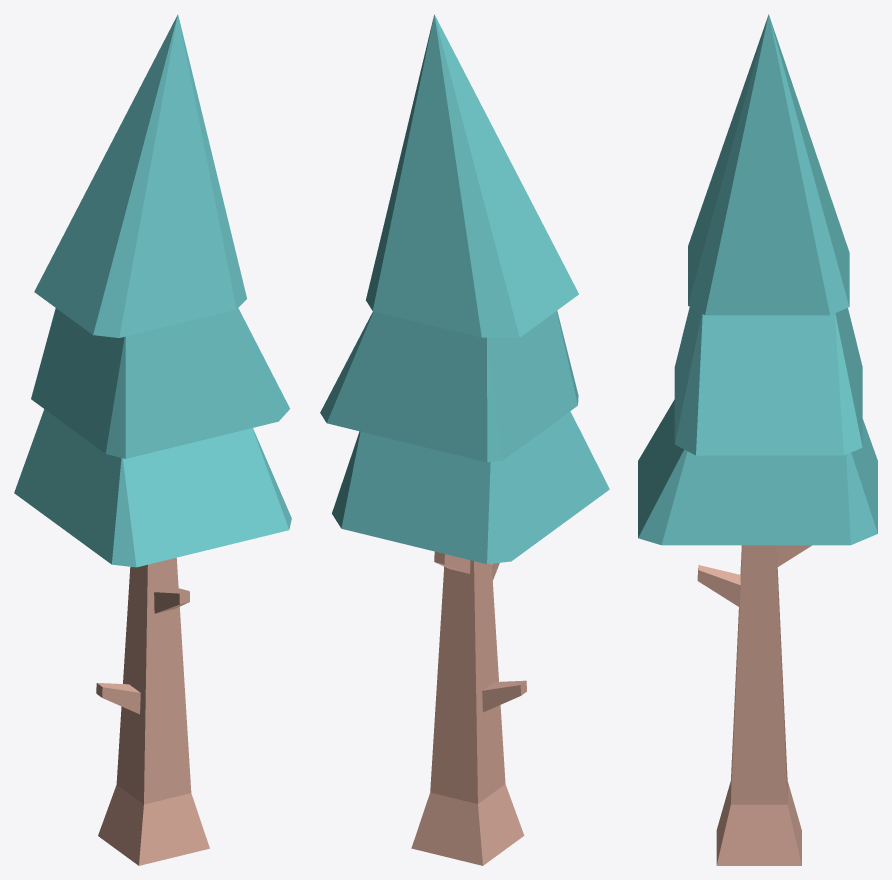
File: tree_pineTallA_detailed.glb
3 renders of one model, left to right at view 1: azimuth 30°, elevation 25°; view 2: azimuth 150°, elevation 25°; view 3: azimuth 270°, elevation 25°, orthographic. The views are drawn at different scales.
Parts seen in each view (by area): view 1: tree_pineTallA_detailed; view 2: tree_pineTallA_detailed; view 3: tree_pineTallA_detailed.
Part boxes in pixels (<box>): tree_pineTallA_detailed: <box>14,14,291,865</box>; tree_pineTallA_detailed: <box>320,14,609,865</box>; tree_pineTallA_detailed: <box>638,14,877,865</box>.
Size of the model in its own units: 0.3863 by 1.53 by 0.392.
